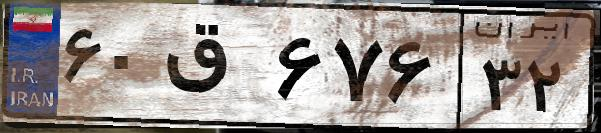0: (110, 28, 158, 98)
2: (525, 38, 570, 115)
3: (475, 38, 525, 113)
6: (270, 28, 330, 110), (385, 28, 445, 110), (57, 26, 110, 100)
7: (330, 28, 385, 110)
ق: (158, 20, 270, 120)
